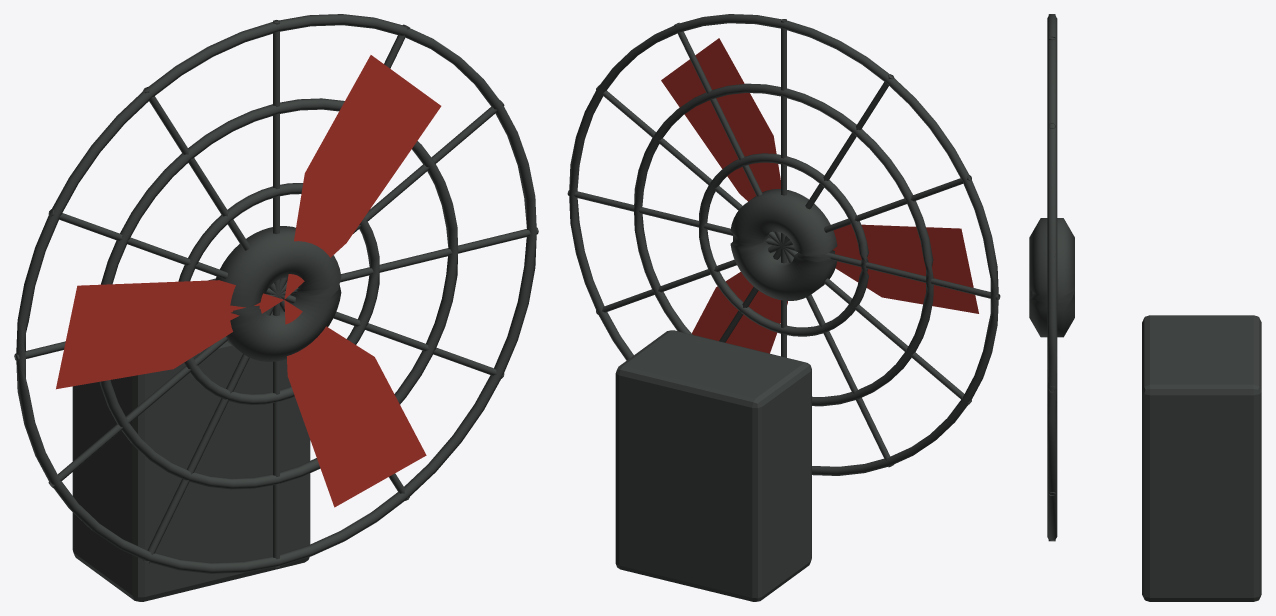
Rendered from wall_fan.glb.
The picture shows the model from 3 angles, left to right: view 1: azimuth 30°, elevation 25°; view 2: azimuth 150°, elevation 25°; view 3: azimuth 270°, elevation 25°; orthographic projection. The views are drawn at different scales.
Parts seen in each view (by area): view 1: KAClass_WallFan_1_Mount, KAClass_WallFan_1_Guard.002, KAClass_WallFan_1_Blade, KAClass_WallFan_1_Blade.001, KAClass_WallFan_1_Blade.002, KAClass_WallFan_1_Hub, KAClass_WallFan_1_Guard.001, KAClass_WallFan_1_Guard, KAClass_WallFan_1_Spoke.010, KAClass_WallFan_1_Spoke.011, KAClass_WallFan_1_Spoke.006, KAClass_WallFan_1_Spoke.002 (+5 smaller); view 2: KAClass_WallFan_1_Mount, KAClass_WallFan_1_Guard.002, KAClass_WallFan_1_Hub, KAClass_WallFan_1_Blade, KAClass_WallFan_1_Blade.001, KAClass_WallFan_1_Guard.001, KAClass_WallFan_1_Guard, KAClass_WallFan_1_Blade.002, KAClass_WallFan_1_Spoke.010, KAClass_WallFan_1_Spoke.004, KAClass_WallFan_1_Spoke.011, KAClass_WallFan_1_Spoke.005 (+6 smaller); view 3: KAClass_WallFan_1_Mount, KAClass_WallFan_1_Guard.002, KAClass_WallFan_1_Hub.
Boxes of the visible parts, left/top/right/bottom form: KAClass_WallFan_1_Mount: left=72, top=278, right=310, bottom=601; KAClass_WallFan_1_Guard.002: left=16, top=14, right=536, bottom=573; KAClass_WallFan_1_Blade: left=56, top=280, right=283, bottom=389; KAClass_WallFan_1_Blade.001: left=284, top=55, right=441, bottom=299; KAClass_WallFan_1_Blade.002: left=284, top=300, right=426, bottom=507; KAClass_WallFan_1_Hub: left=215, top=226, right=341, bottom=361; KAClass_WallFan_1_Guard.001: left=99, top=98, right=458, bottom=489; KAClass_WallFan_1_Guard: left=178, top=183, right=379, bottom=404; KAClass_WallFan_1_Spoke.010: left=143, top=296, right=278, bottom=563; KAClass_WallFan_1_Spoke.011: left=48, top=296, right=277, bottom=487; KAClass_WallFan_1_Spoke.006: left=279, top=227, right=538, bottom=295; KAClass_WallFan_1_Spoke.002: left=143, top=87, right=278, bottom=294; KAClass_WallFan_1_Mount: left=615, top=330, right=811, bottom=601; KAClass_WallFan_1_Guard.002: left=569, top=14, right=998, bottom=475; KAClass_WallFan_1_Hub: left=730, top=189, right=837, bottom=300; KAClass_WallFan_1_Blade: left=833, top=224, right=978, bottom=313; KAClass_WallFan_1_Blade.001: left=661, top=38, right=780, bottom=201; KAClass_WallFan_1_Guard.001: left=634, top=83, right=933, bottom=406; KAClass_WallFan_1_Guard: left=699, top=153, right=868, bottom=336; KAClass_WallFan_1_Blade.002: left=692, top=272, right=787, bottom=353; KAClass_WallFan_1_Spoke.010: left=782, top=246, right=893, bottom=467; KAClass_WallFan_1_Spoke.004: left=673, top=22, right=782, bottom=245; KAClass_WallFan_1_Spoke.011: left=783, top=246, right=971, bottom=404; KAClass_WallFan_1_Spoke.005: left=596, top=85, right=781, bottom=245; KAClass_WallFan_1_Mount: left=1142, top=315, right=1261, bottom=601; KAClass_WallFan_1_Guard.002: left=1047, top=14, right=1057, bottom=539; KAClass_WallFan_1_Hub: left=1029, top=218, right=1074, bottom=337.
Size of the model in its own units: 0.53 by 0.585 by 0.233.
